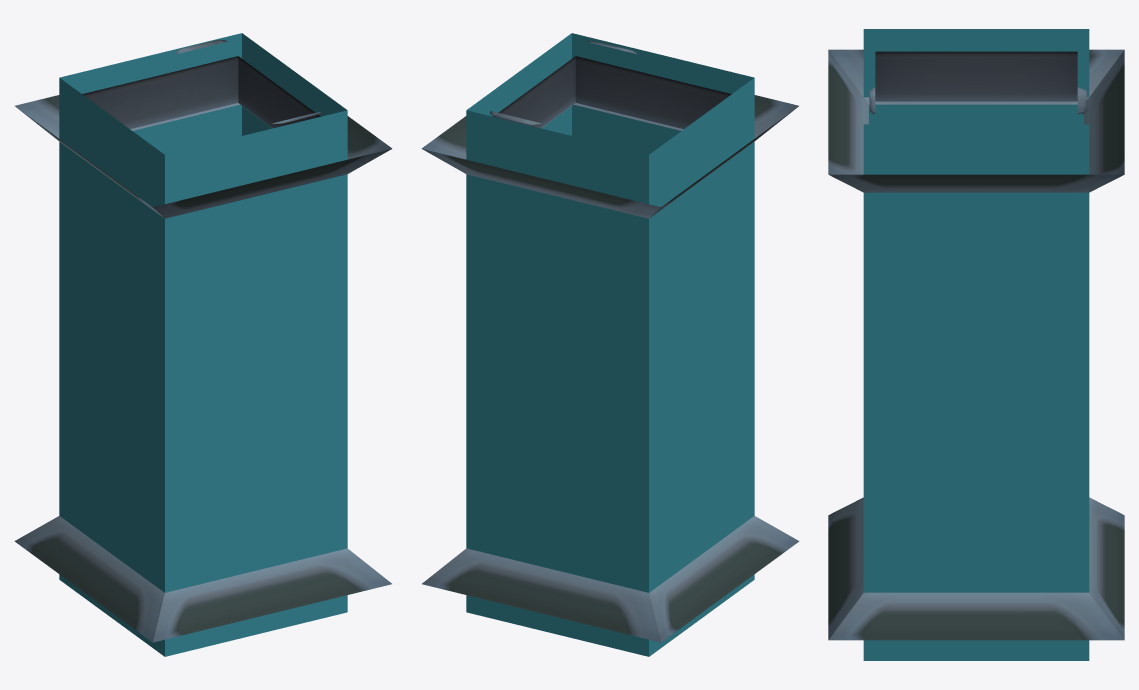
File: obj_interactive_pipe04_lod1.fbx
The picture shows the model from 3 angles, left to right: view 1: azimuth 30°, elevation 25°; view 2: azimuth 150°, elevation 25°; view 3: azimuth 270°, elevation 25°; orthographic projection. The views are drawn at different scales.
Parts seen in each view (by area): view 1: obj_interactive_pipe04_lod1; view 2: obj_interactive_pipe04_lod1; view 3: obj_interactive_pipe04_lod1.
Part boxes in pixels (x1,y1,x2,y2): obj_interactive_pipe04_lod1: [14, 33, 392, 656]; obj_interactive_pipe04_lod1: [421, 33, 799, 656]; obj_interactive_pipe04_lod1: [828, 29, 1124, 660].
Bounding box in the file's own units: 2 × 4 × 2.
